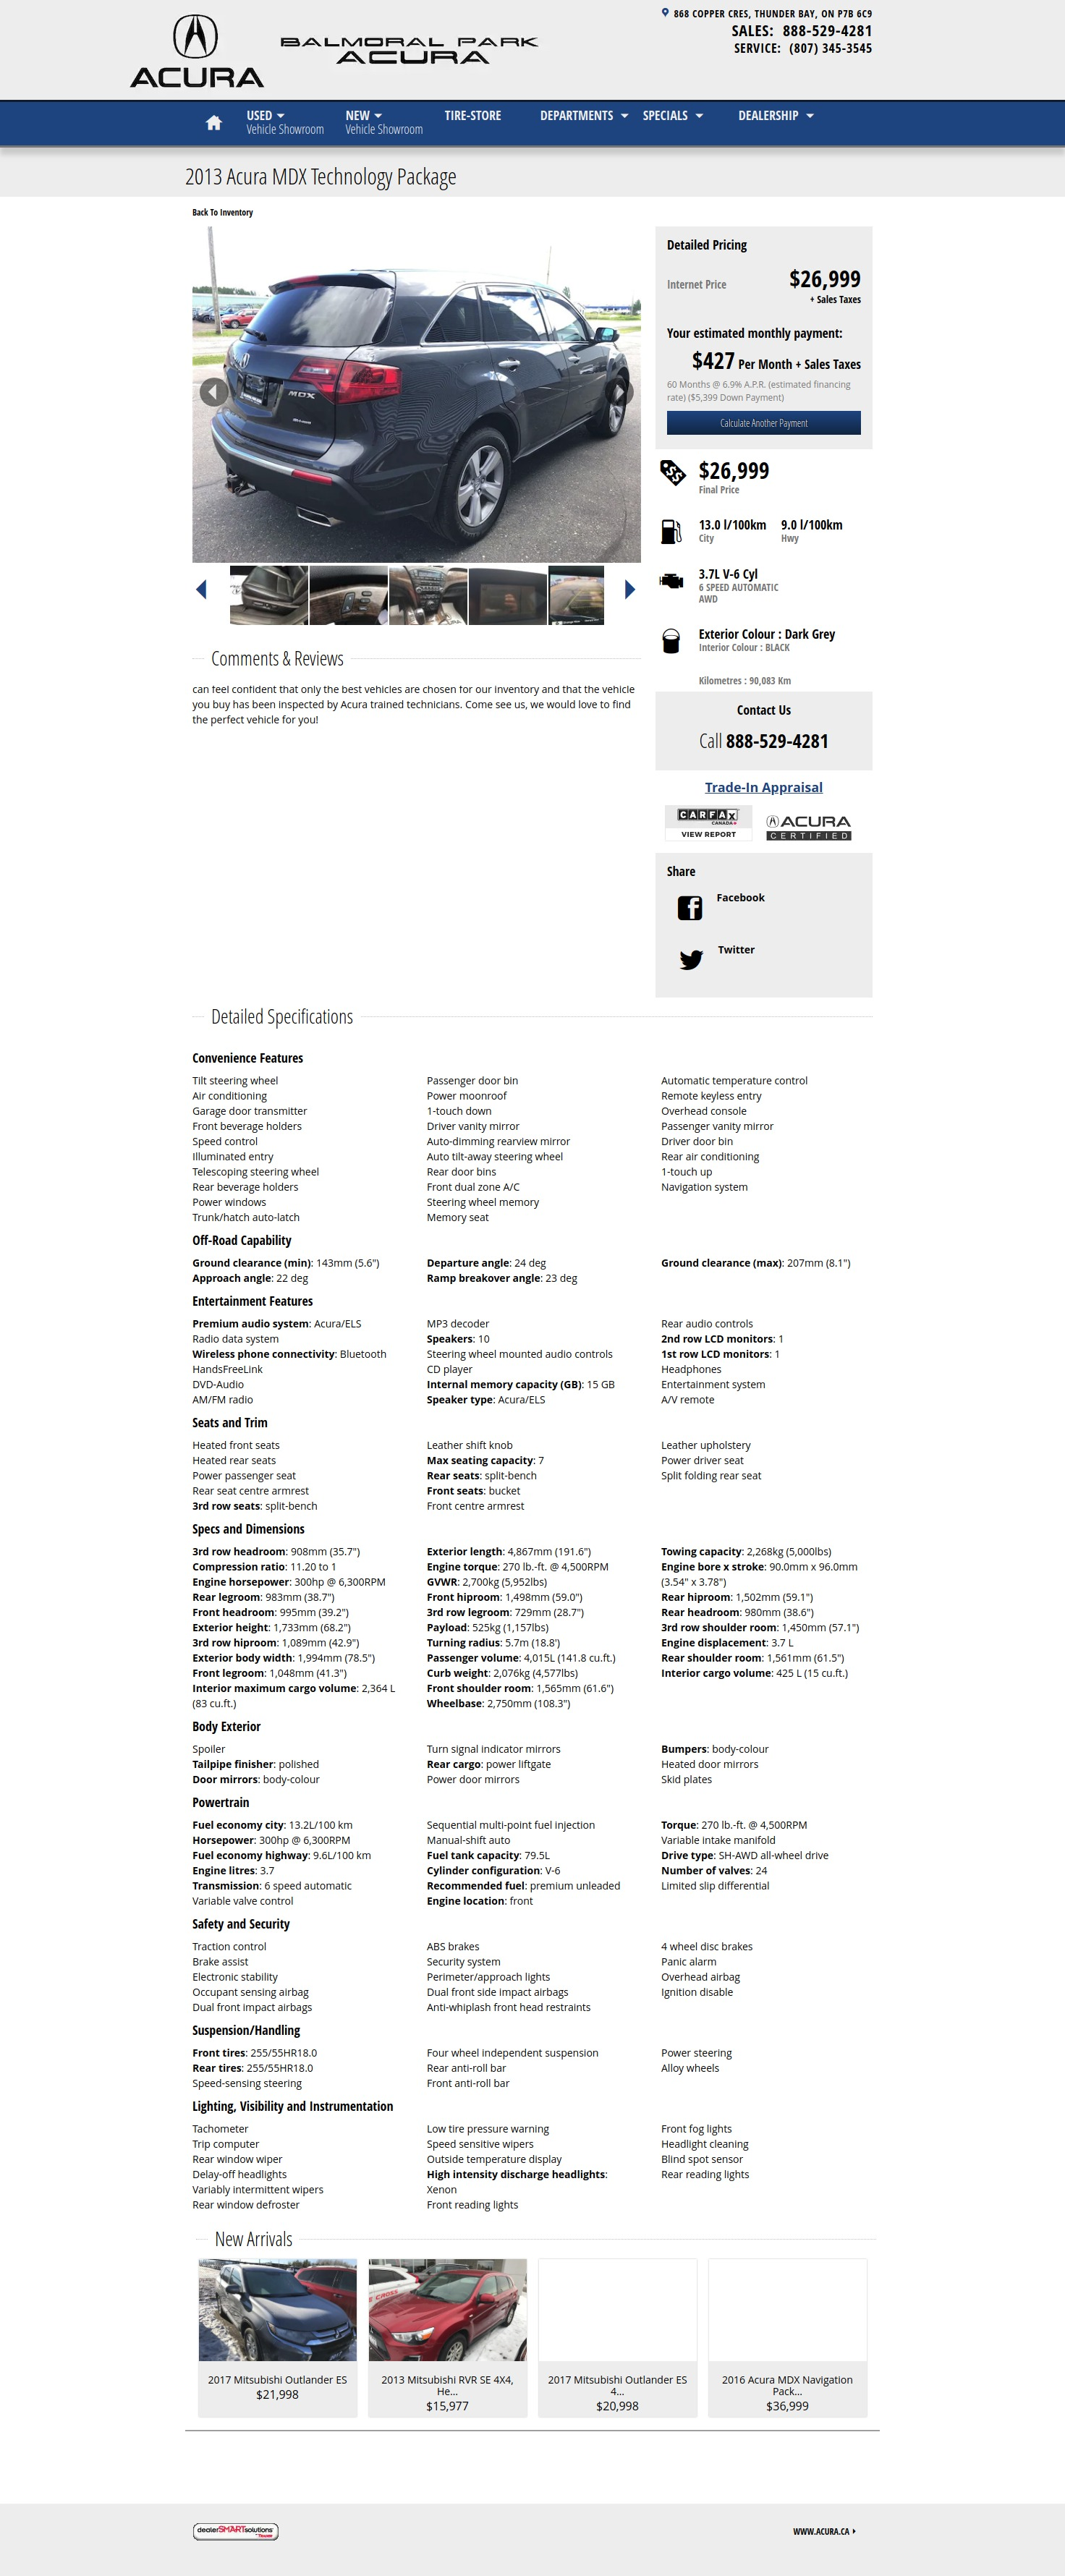car: (623, 578, 636, 600)
